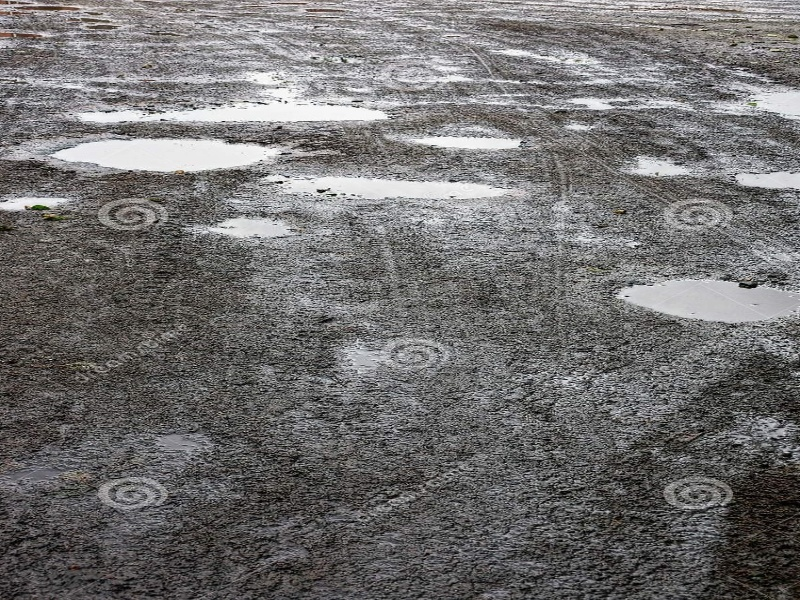pothole: (610, 270, 800, 337), (45, 133, 283, 177), (270, 169, 523, 206), (79, 100, 390, 123), (410, 130, 529, 156), (330, 336, 396, 380)
